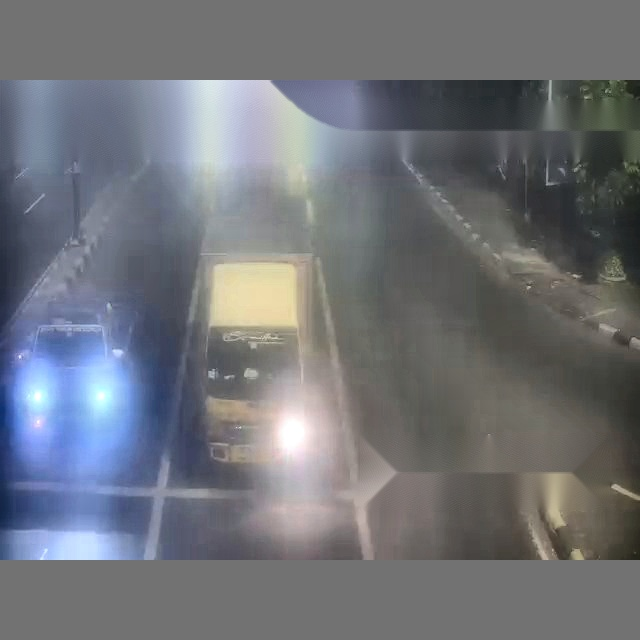Mobil: (0, 233, 171, 558)
